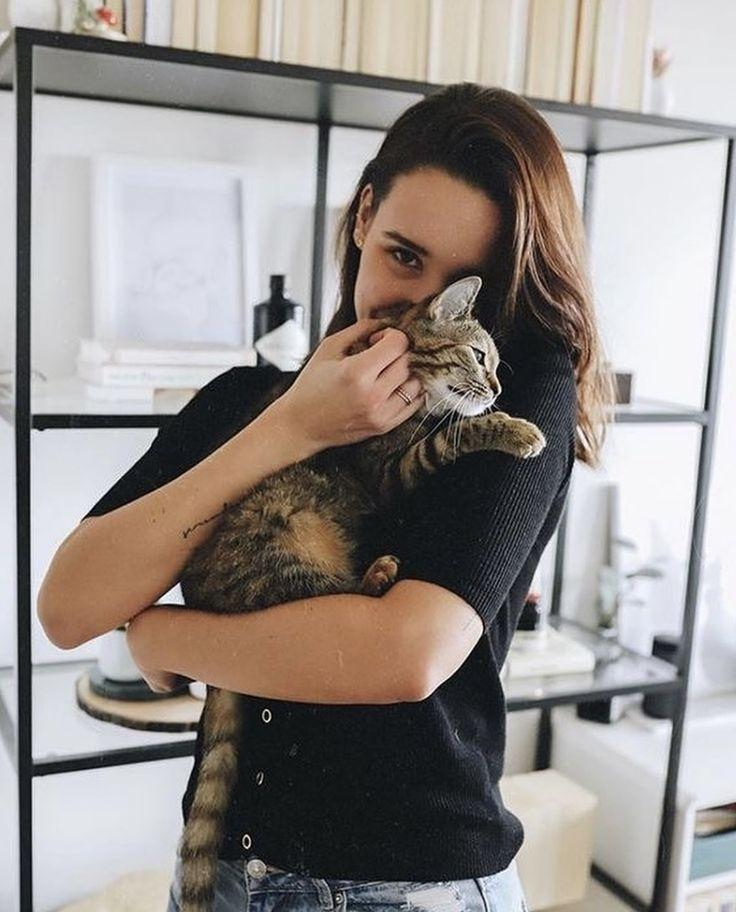kedo: (179, 279, 547, 609)
